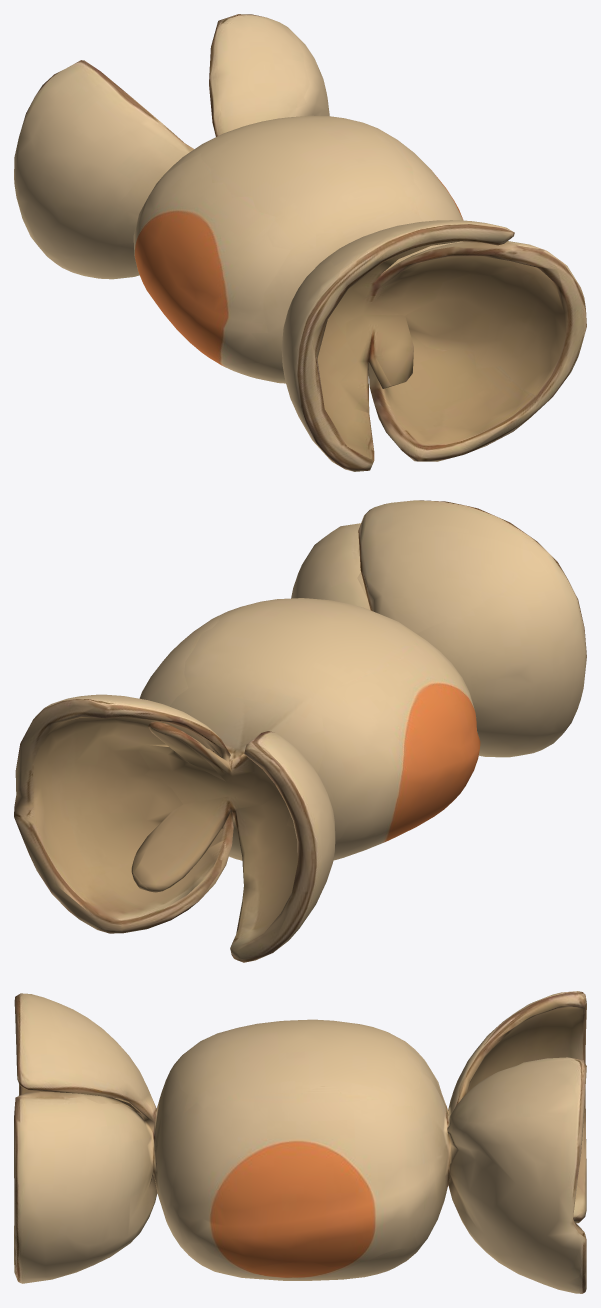
3 renders of one model, top to bottom at view 1: azimuth 30°, elevation 25°; view 2: azimuth 150°, elevation 25°; view 3: azimuth 270°, elevation 25°, orthographic.
Visible parts, largest first — view 1: node_0; view 2: node_0; view 3: node_0.
Part boxes in pixels (bbox=[...]): node_0: bbox=[14, 14, 586, 471]; node_0: bbox=[14, 500, 586, 962]; node_0: bbox=[14, 991, 586, 1293].
Size of the model in its own units: 0.2068 by 0.1546 by 0.3342.
1 material, 1 textured.
